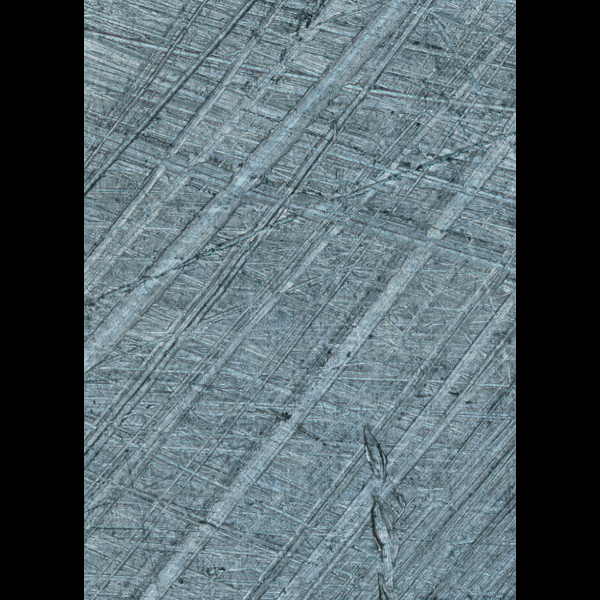d: (352, 418, 413, 599)
